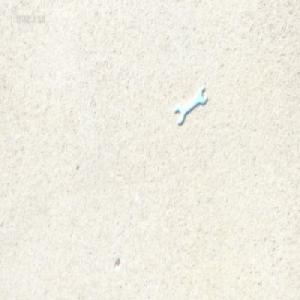Wrench: (175, 88, 206, 124)
